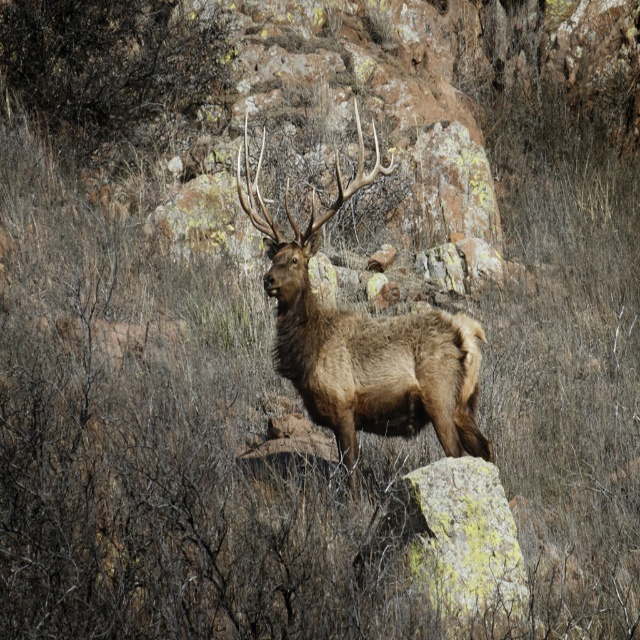Deer: (237, 97, 494, 503)
